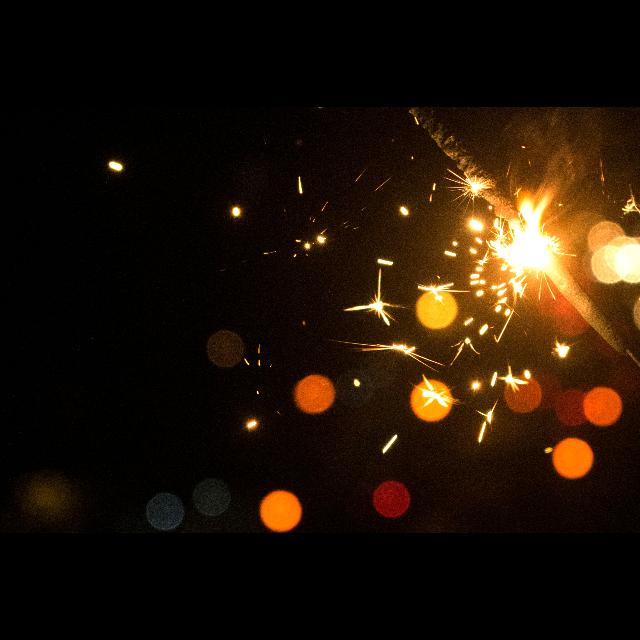fire: (410, 107, 615, 336), (408, 107, 520, 229), (542, 251, 630, 356)
